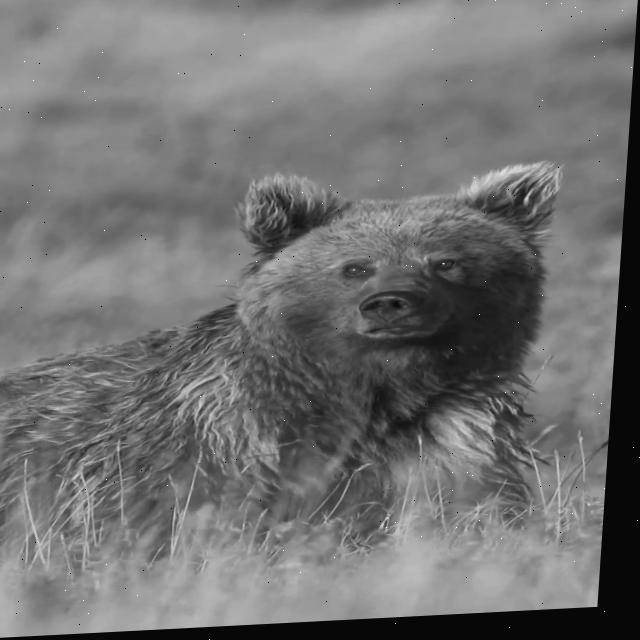Bear: (0, 156, 570, 588)
